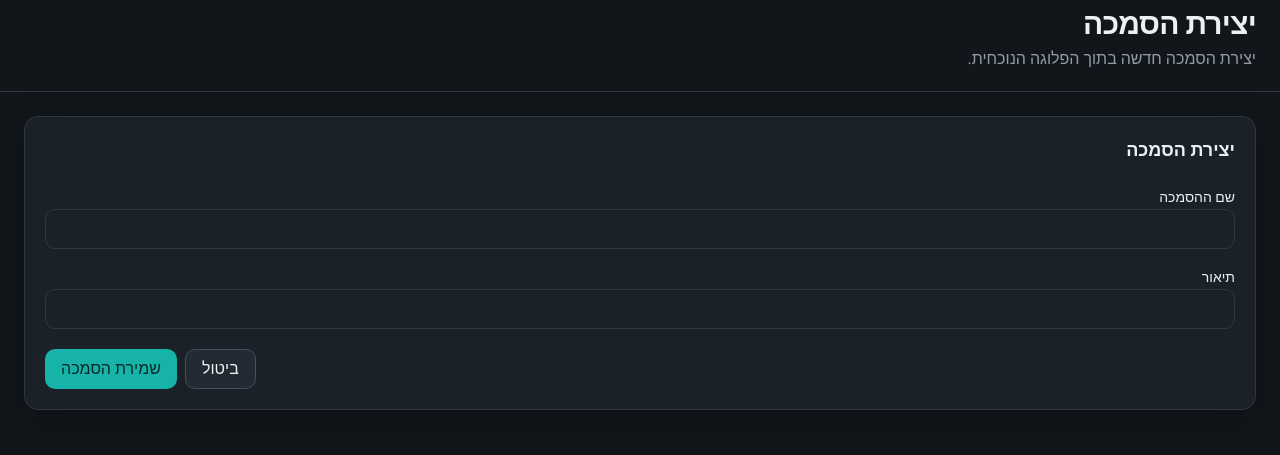
it: QualificationFormPage › validates required fields before submit
What coordinates should you click on to do the following:
click the button "שמירת הסמכה"
I would click on:
 (111, 369)
Its box is x1=45 y1=349 x2=177 y2=389.
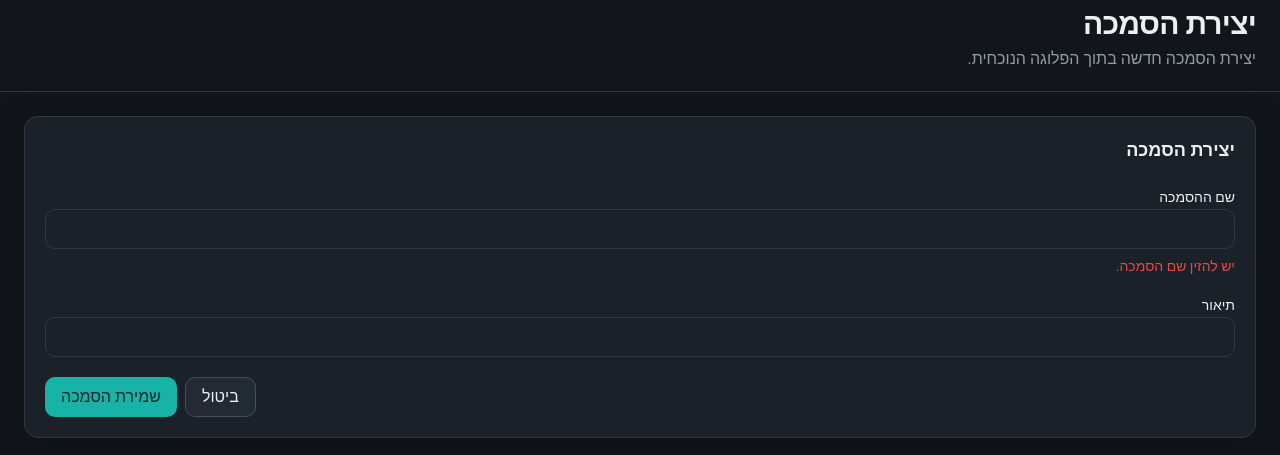
expect the text "יש להזין שם הסמכה." is shown: met, box x1=1116 y1=256 x2=1235 y2=277
